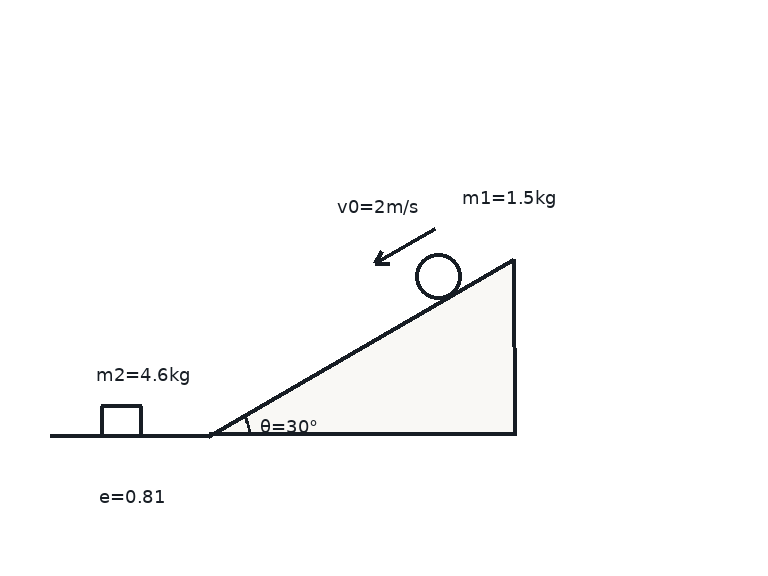ball: (413, 251, 463, 301)
block: (99, 404, 143, 437)
ramp: (207, 258, 515, 437)
